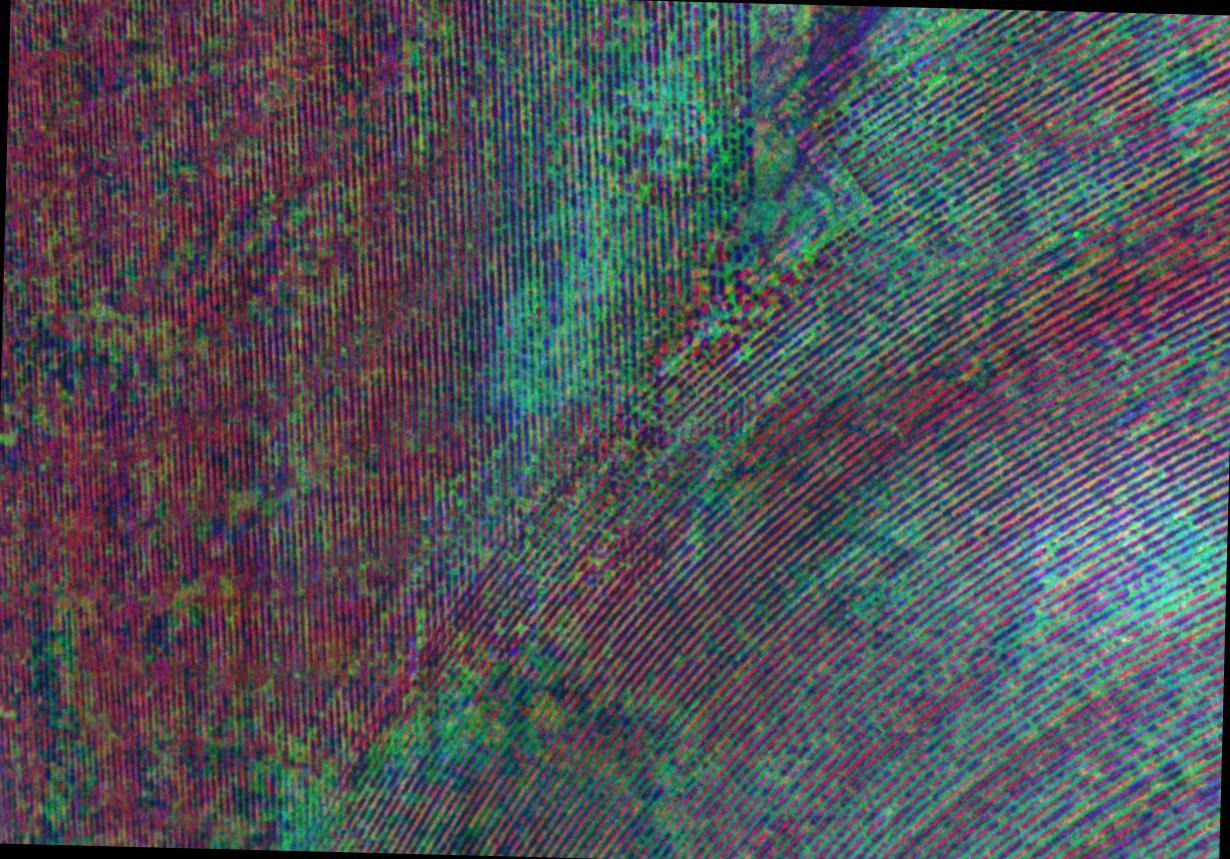dc: (511, 283, 601, 413), (591, 88, 716, 172), (261, 758, 354, 857), (1138, 538, 1222, 615), (783, 173, 869, 242), (421, 693, 484, 763)
